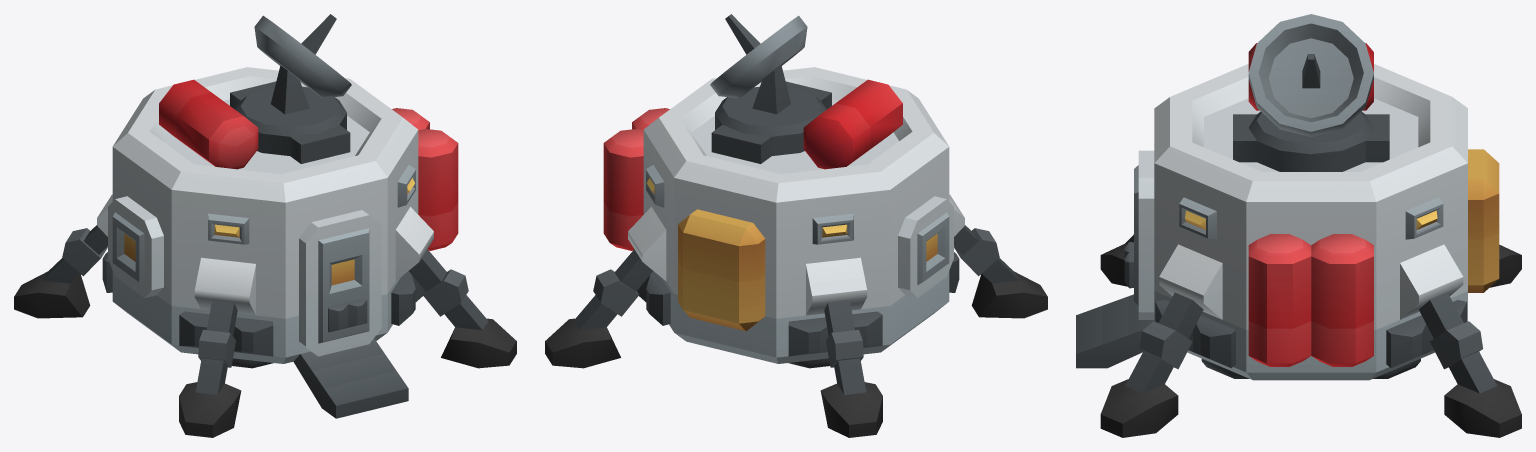
Rendered from kk_lander_a.glb.
3 views of the same model, side by side, from view 1: azimuth 30°, elevation 25°; view 2: azimuth 150°, elevation 25°; view 3: azimuth 270°, elevation 25° (orthographic). The views are drawn at different scales.
Parts seen in each view (by area): view 1: lander_A; view 2: lander_A; view 3: lander_A.
Part boxes in pixels (box(x1,y1,x2,y2)): lander_A: box(14, 14, 516, 437); lander_A: box(545, 14, 1047, 437); lander_A: box(1076, 14, 1521, 437).
Size of the model in its own units: 6.9 by 6 by 7.16.
Materials: 1 (1 with a texture image).
